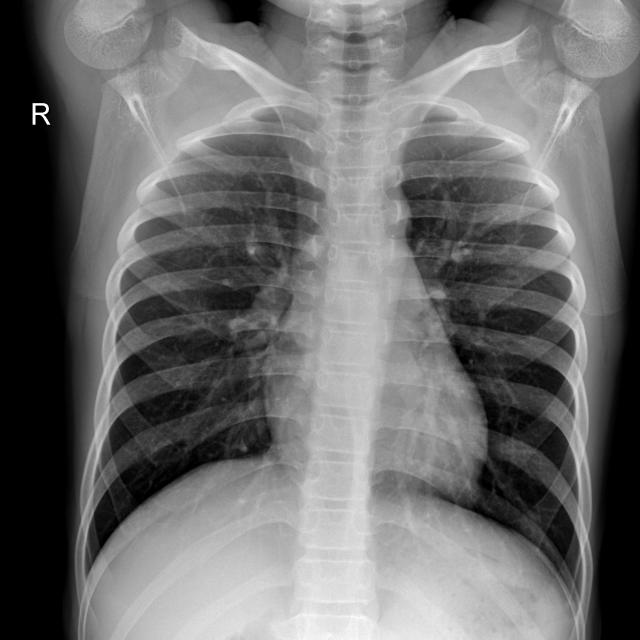no-pneumonia: (78, 122, 325, 581), (388, 121, 592, 594)
